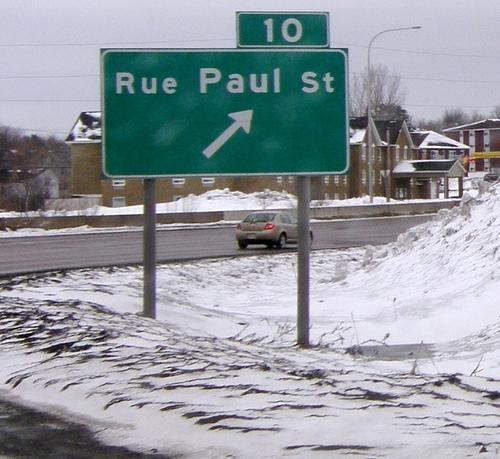car: (234, 212, 313, 248)
